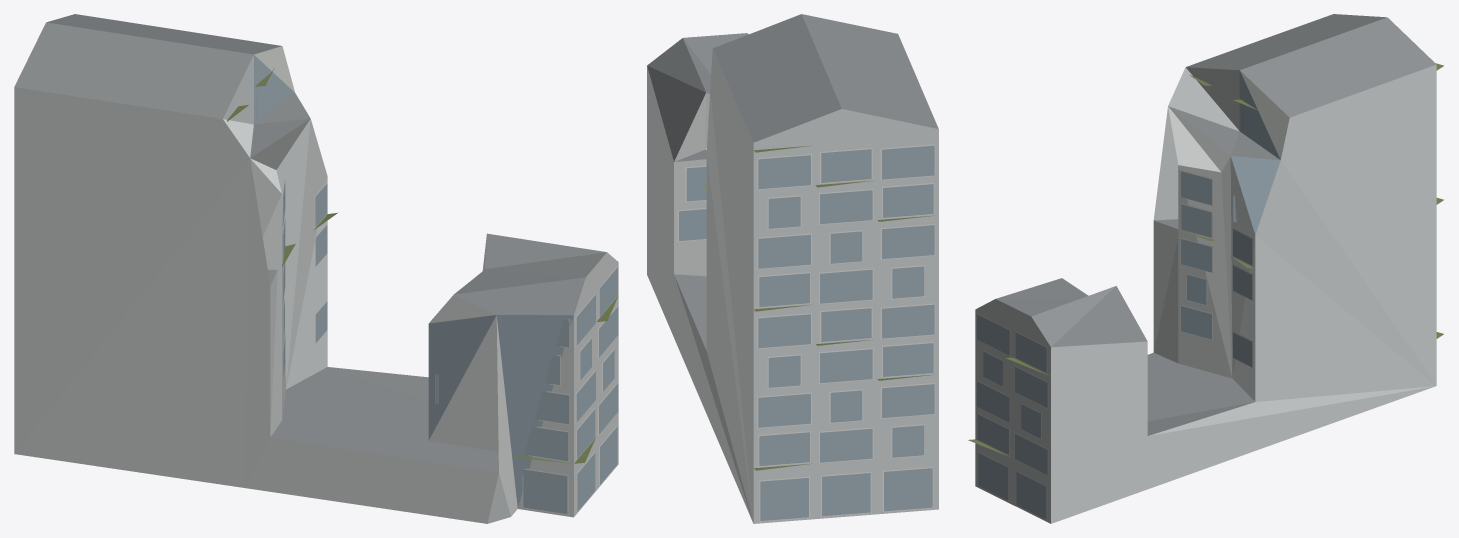
File: haparandaweg-708-744.lod2.glb
3 views of the same model, side by side, from view 1: azimuth 30°, elevation 25°; view 2: azimuth 150°, elevation 25°; view 3: azimuth 270°, elevation 25° (orthographic). The views are drawn at different scales.
Parts seen in each view (by area): view 1: lod2; view 2: lod2; view 3: lod2.
Part boxes in pixels (x1,y1,x2,y2): lod2: (14, 14, 618, 523); lod2: (647, 14, 938, 523); lod2: (968, 14, 1443, 523).
Bounding box in the file's own units: 36.27 × 30.8 × 38.68.
